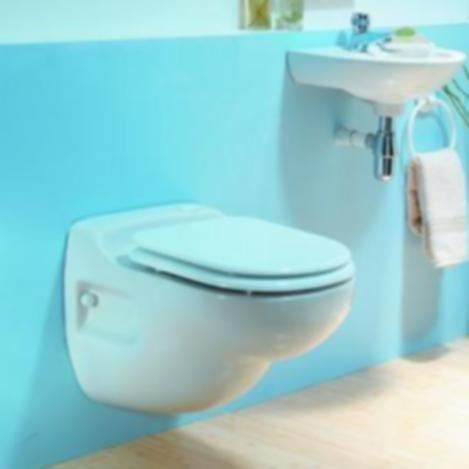Lavamanos: (286, 9, 469, 185)
Sanitario: (59, 201, 361, 417)
